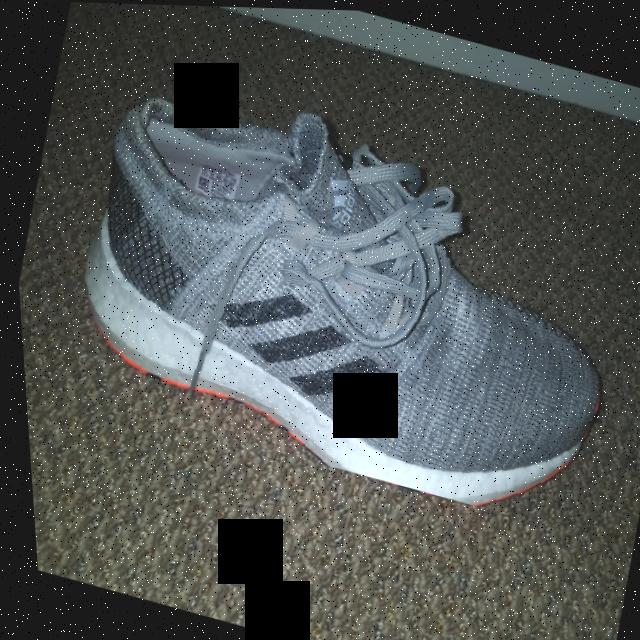shoe: (38, 37, 640, 539)
